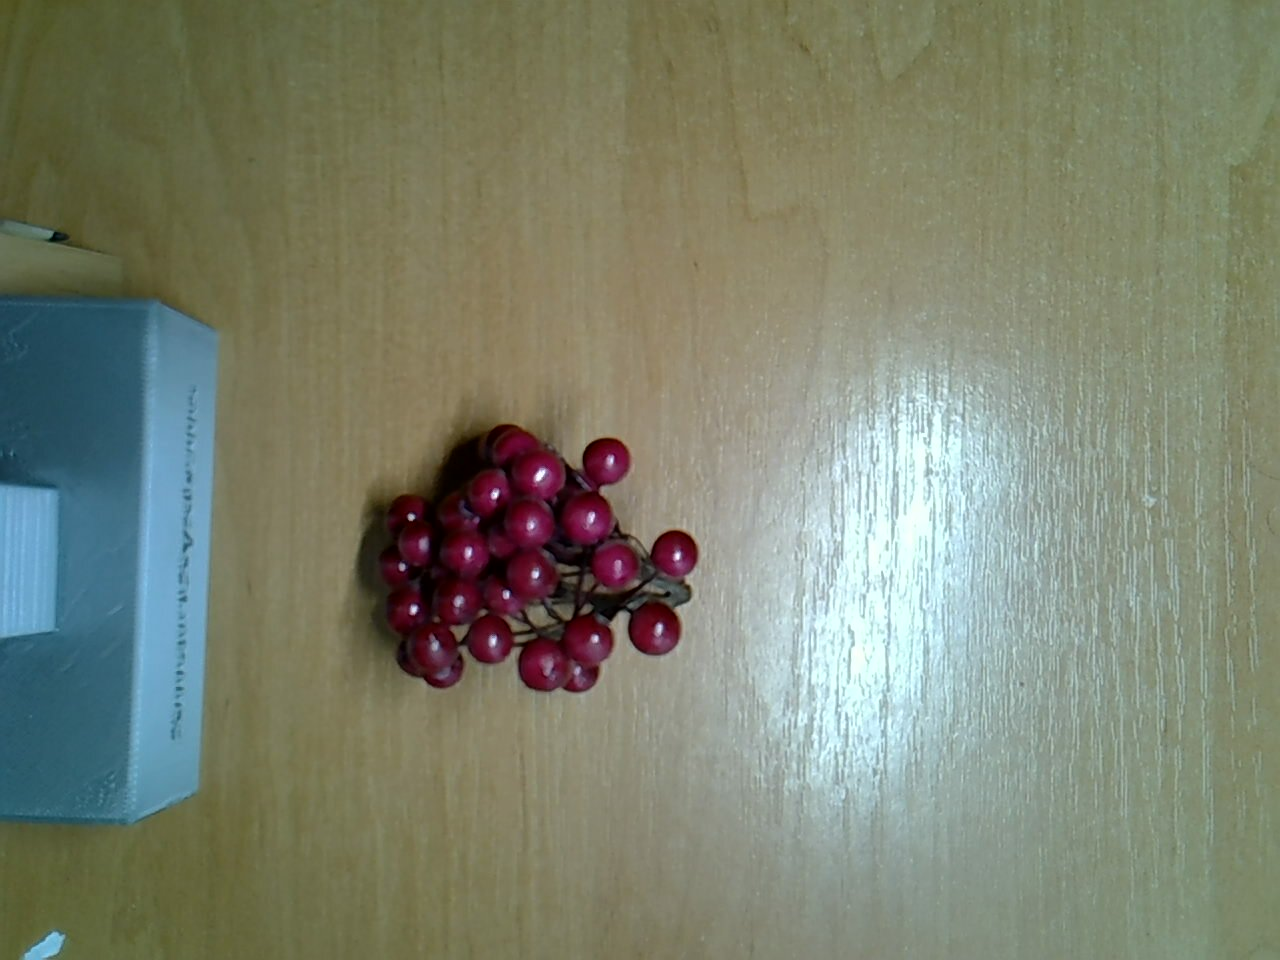berries: (353, 418, 706, 704)
